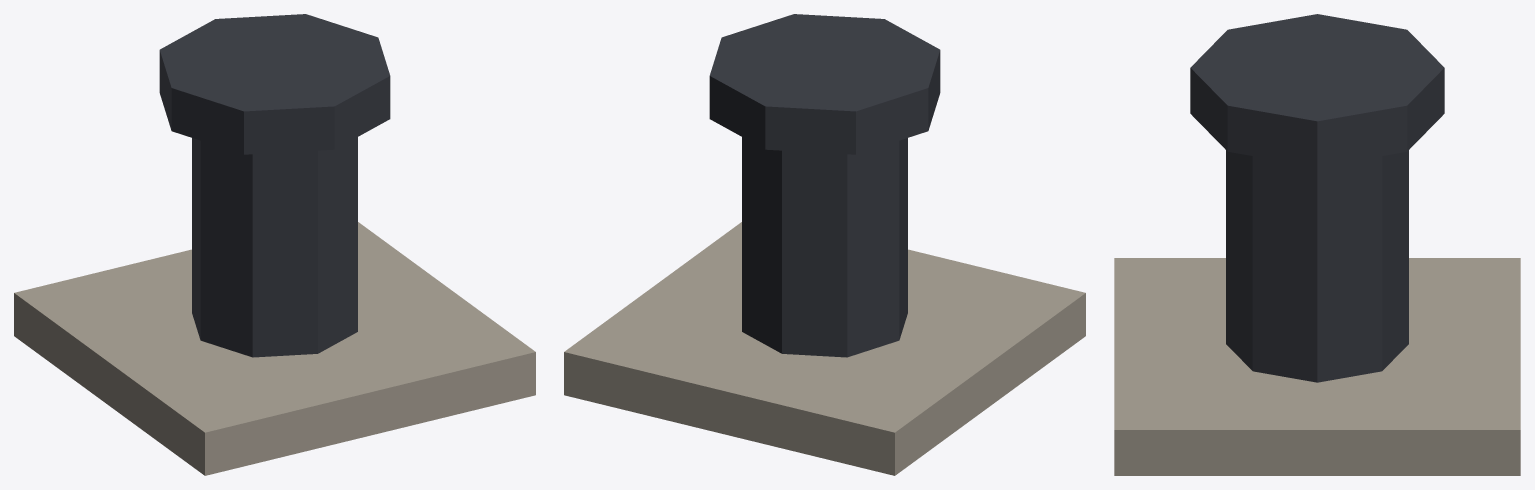
The model's file is mooring_bollard.glb.
3 renders of one model, left to right at view 1: azimuth 30°, elevation 25°; view 2: azimuth 150°, elevation 25°; view 3: azimuth 270°, elevation 25°, orthographic. The views are drawn at different scales.
Visible parts, largest first — view 1: mooring_bollard; view 2: mooring_bollard; view 3: mooring_bollard.
Boxes of the visible parts, <box> form: mooring_bollard: <box>14,14,535,475</box>; mooring_bollard: <box>564,14,1085,475</box>; mooring_bollard: <box>1114,14,1520,475</box>.
Size of the model in its own units: 0.8 by 0.7 by 0.8.
